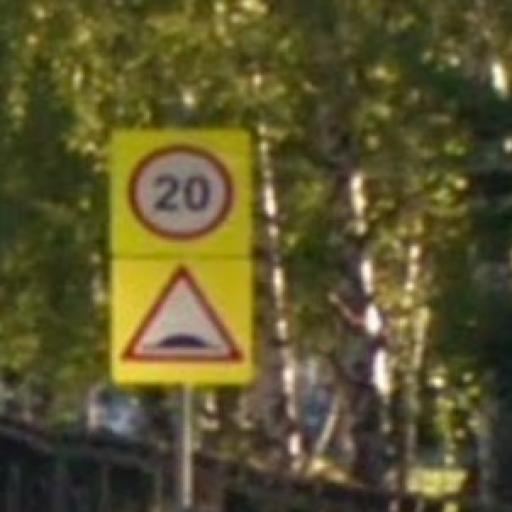traffic_sign: (117, 261, 244, 366), (126, 143, 235, 243)
